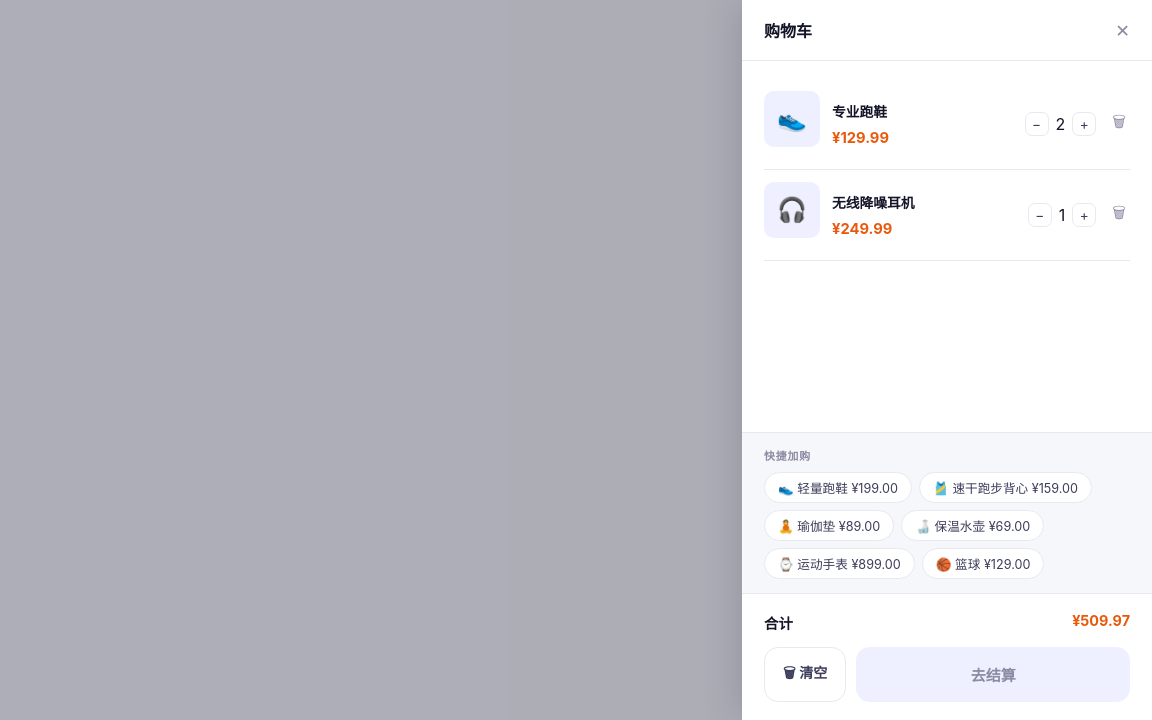
Test: 失败处理（R10-7） › 404 Cart item not found：提示 + 重新 GET /cart 校正投影
Expected: the text "无线降噪耳机" is shown, [832,195,914,211]
Step 1. Click the button named "移除 无线降噪耳机" → (1119, 215), box [1108,202,1130,228]
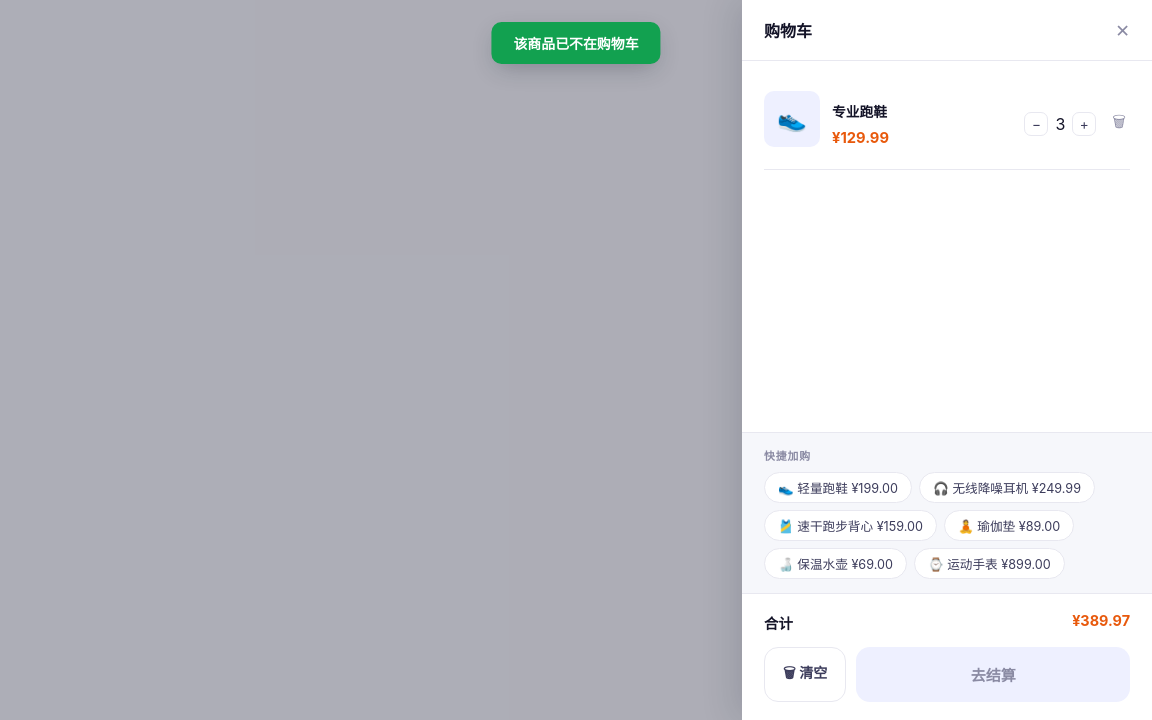
Expected: the message reads "该商品已不在购物车", [513,36,639,52]
